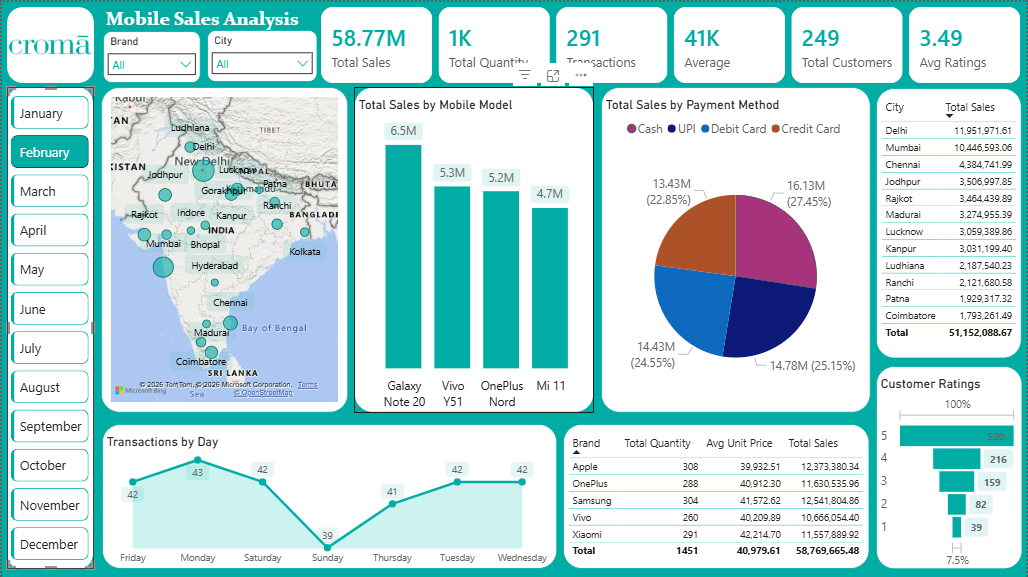

The page's visual inventory and layout, read from the dashboard file:
{"tool":"powerbi","page":{"name":"Page 1","canvas":[1280,720],"ordinal":0},"visuals":[{"type":"shape","box":[5.6,6.2,108.8,95],"z":0},{"type":"image","box":[8.1,21.2,103.1,64.4],"z":1000},{"type":"shape","box":[6.7,105.8,107.6,603.1],"z":1000,"group":"g1"},{"type":"group","id":"g1","title":"Group 4","box":[6.7,105.8,107.6,603.1],"z":1001,"group":"g2"},{"type":"group","id":"g2","title":"Group 3","box":[6.7,105.8,108.3,603.3],"z":2000},{"type":"advancedSlicerVisual","fields":{"Values":["Croma Sales.Sale_Date.Variation.Date Hierarchy.Month"]},"box":[12.1,116.7,97.6,582.3],"z":2001,"group":"g1"},{"type":"cardVisual","fields":{"Data":["Croma Sales.Total Sales","Croma Sales.Total Quantity","Croma Sales.Transactions","Croma Sales.Average","Croma Sales.Total Customers","Croma Sales.Avg Ratings"]},"box":[399,6,875,95],"z":3000},{"type":"map","fields":{"Category":["Croma Sales.City"],"Size":["Croma Sales.Total Sales"]},"box":[123.3,106.7,308.9,406.7],"z":4000},{"type":"lineChart","title":"Transactions by Day","fields":{"Category":["Croma Sales.Day Name"],"Y":["Croma Sales.Transactions"]},"box":[124.7,528,568.7,180.7],"z":5000},{"type":"clusteredColumnChart","fields":{"Y":["Croma Sales.Total Sales"],"Category":["Croma Sales.Mobile Model"]},"box":[440,106.7,300,406.7],"z":6000},{"type":"pieChart","fields":{"Y":["Croma Sales.Total Sales"],"Category":["Croma Sales.Payment Method"]},"box":[748.3,106.7,336.7,406.7],"z":7000},{"type":"tableEx","fields":{"Values":["Croma Sales.Brand","Croma Sales.Total Quantity","Croma Sales.Avg Unit Price","Croma Sales.Total Sales"]},"box":[701.3,528,383.3,180.7],"z":8000},{"type":"funnel","title":"Customer Ratings","fields":{"Category":["Croma Sales.Customer Ratings"],"Y":["Sum(Croma Sales.Customer Ratings)"]},"box":[1092.3,454.6,183.1,253.8],"z":9000},{"type":"tableEx","fields":{"Values":["Croma Sales.City","Croma Sales.Total Sales"]},"box":[1092.3,106.9,182.3,338.5],"z":10000},{"type":"group","id":"g3","title":"Group 1","box":[125.6,35,267.5,66.2],"z":11000},{"type":"slicer","fields":{"Values":["Croma Sales.Brand"]},"box":[125.6,36,122,65],"z":11000,"group":"g3"},{"type":"textbox","box":[124.7,6,268.7,29.3],"z":12000},{"type":"slicer","fields":{"Values":["Croma Sales.City"]},"box":[255.6,35,138,65],"z":13000,"group":"g3"}]}

Visuals, with their boxes in screenshot pixels (x1, y1, x2, y2), scaled from the page's 1280x720 canvas onto the 1028x577 screenshot:
shape: pyautogui.locateOnScreen(4, 5, 92, 81)
image: pyautogui.locateOnScreen(7, 17, 89, 69)
shape: pyautogui.locateOnScreen(5, 85, 92, 568)
"Group 4" group: pyautogui.locateOnScreen(5, 85, 92, 568)
"Group 3" group: pyautogui.locateOnScreen(5, 85, 92, 568)
advancedSlicerVisual - Croma Sales.Sale_Date.Variation.Date Hierarchy.Month: pyautogui.locateOnScreen(10, 94, 88, 560)
cardVisual - Croma Sales.Total Sales x Croma Sales.Total Quantity: pyautogui.locateOnScreen(320, 5, 1023, 81)
map - Croma Sales.City x Croma Sales.Total Sales: pyautogui.locateOnScreen(99, 86, 347, 411)
"Transactions by Day" lineChart: pyautogui.locateOnScreen(100, 423, 557, 568)
clusteredColumnChart - Croma Sales.Total Sales x Croma Sales.Mobile Model: pyautogui.locateOnScreen(353, 86, 594, 411)
pieChart - Croma Sales.Total Sales x Croma Sales.Payment Method: pyautogui.locateOnScreen(601, 86, 871, 411)
tableEx - Croma Sales.Brand x Croma Sales.Total Quantity: pyautogui.locateOnScreen(563, 423, 871, 568)
"Customer Ratings" funnel: pyautogui.locateOnScreen(877, 364, 1024, 568)
tableEx - Croma Sales.City x Croma Sales.Total Sales: pyautogui.locateOnScreen(877, 86, 1024, 357)
"Group 1" group: pyautogui.locateOnScreen(101, 28, 316, 81)
slicer - Croma Sales.Brand: pyautogui.locateOnScreen(101, 29, 199, 81)
textbox: pyautogui.locateOnScreen(100, 5, 316, 28)
slicer - Croma Sales.City: pyautogui.locateOnScreen(205, 28, 316, 80)
